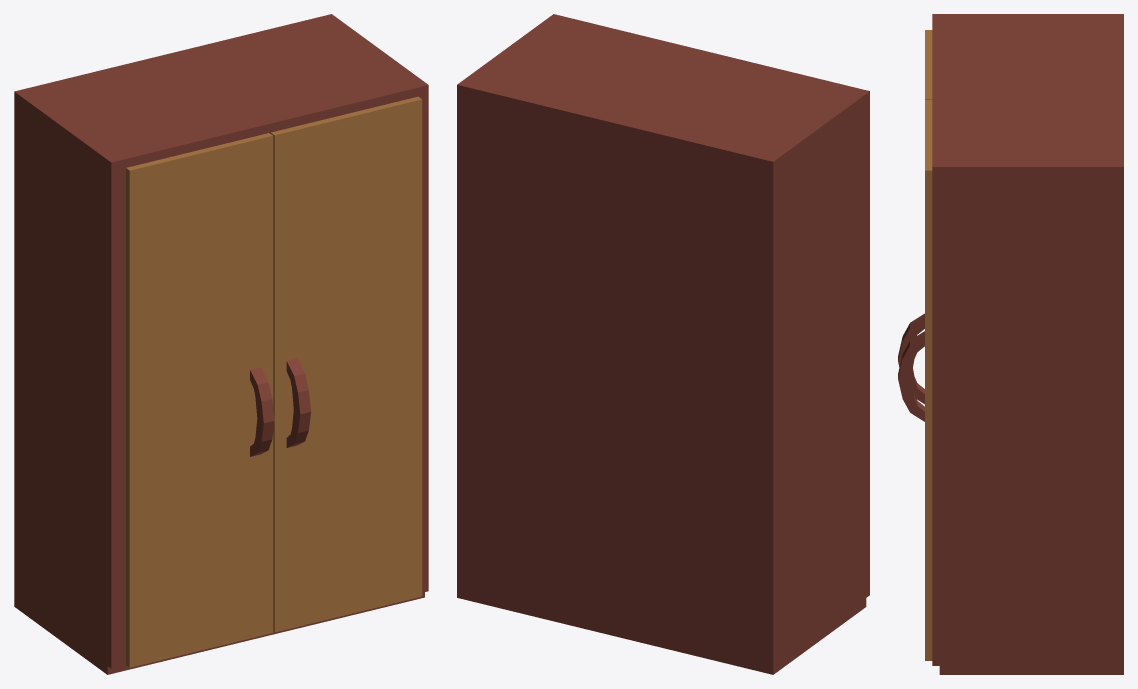
File: Standart Wardrobe.fbx
The picture shows the model from 3 angles, left to right: view 1: azimuth 30°, elevation 25°; view 2: azimuth 150°, elevation 25°; view 3: azimuth 270°, elevation 25°; orthographic projection.
Parts seen in each view (by area): view 1: Standart Wardrobe; view 2: Standart Wardrobe; view 3: Standart Wardrobe.
Part boxes in pixels (x1,y1,x2,y2): Standart Wardrobe: (14, 14, 428, 674); Standart Wardrobe: (457, 14, 869, 674); Standart Wardrobe: (898, 14, 1123, 674).
Size of the model in its own units: 1.47 by 2.28 by 0.9198.
